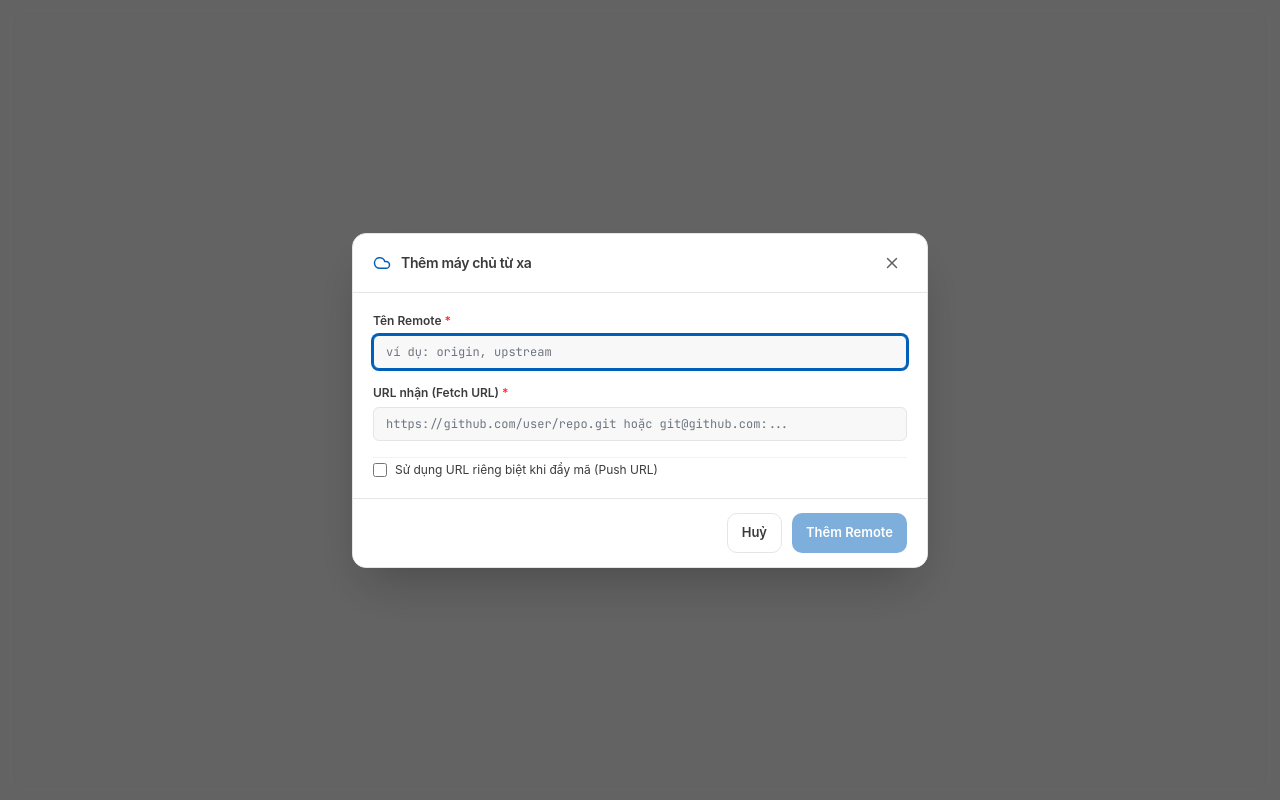
Test: AddEditRemoteModal › clears the error as soon as the user edits a field again
Type "upstream" into the field labelled "Tên Remote *". click: (640, 352)
box: 373,334 -> 907,368
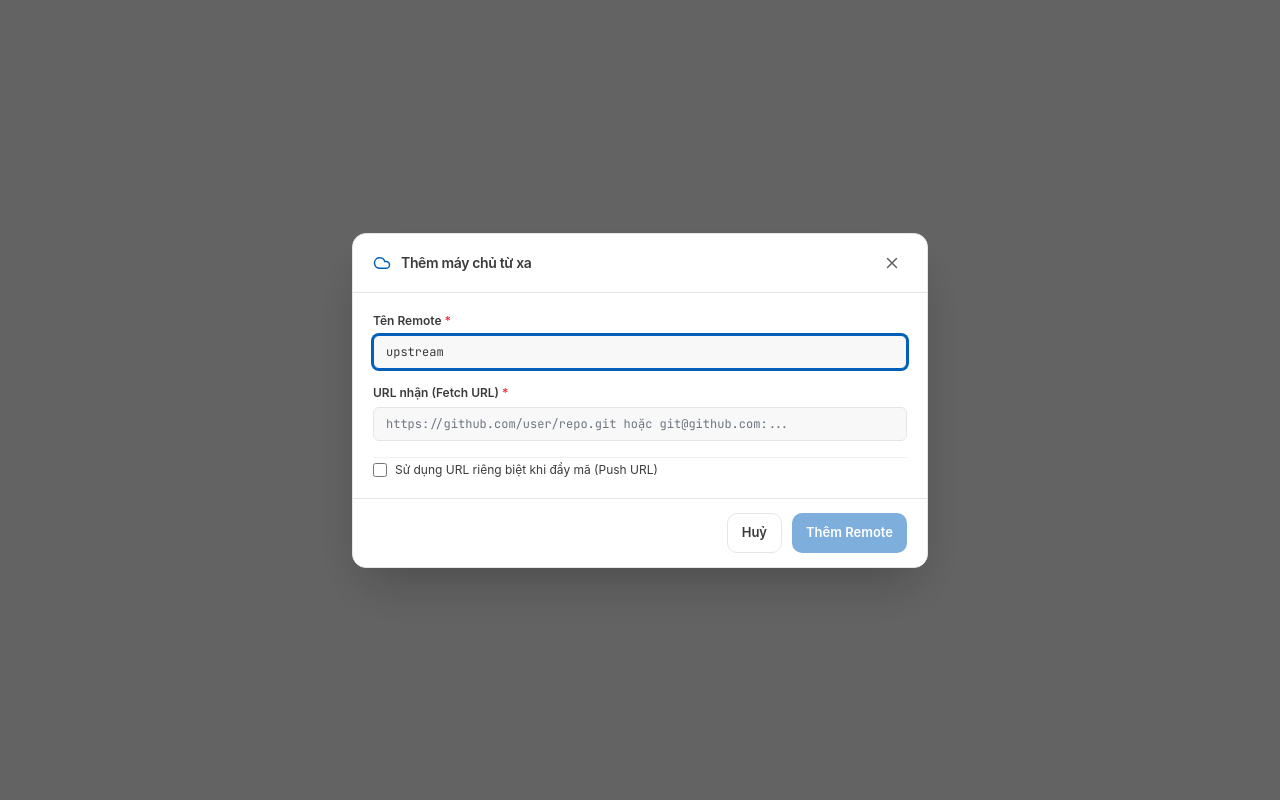
Type "https://example.com/a.git" into the field labelled "URL nhận (Fetch URL) *". click: (640, 424)
box: 373,406 -> 907,440
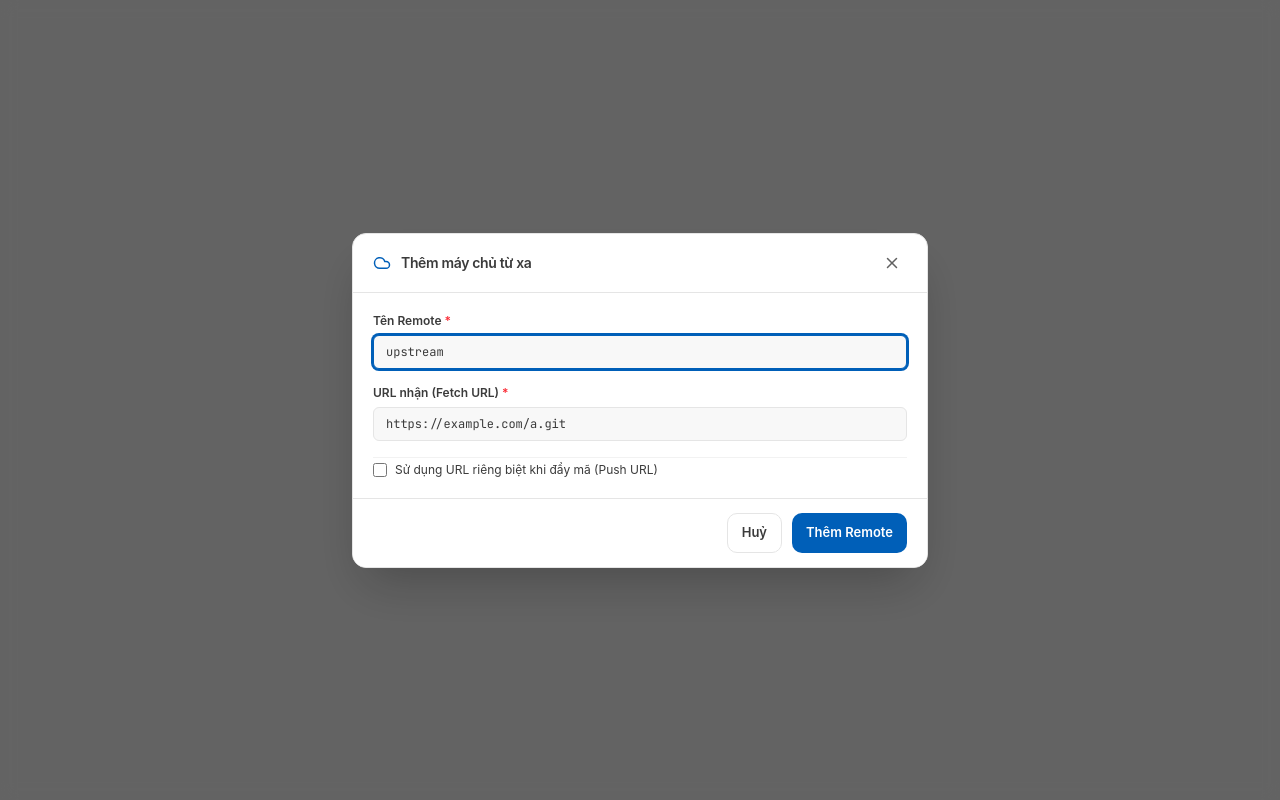
Click the button "Thêm Remote". click: (850, 532)
box: 792,512 -> 907,552
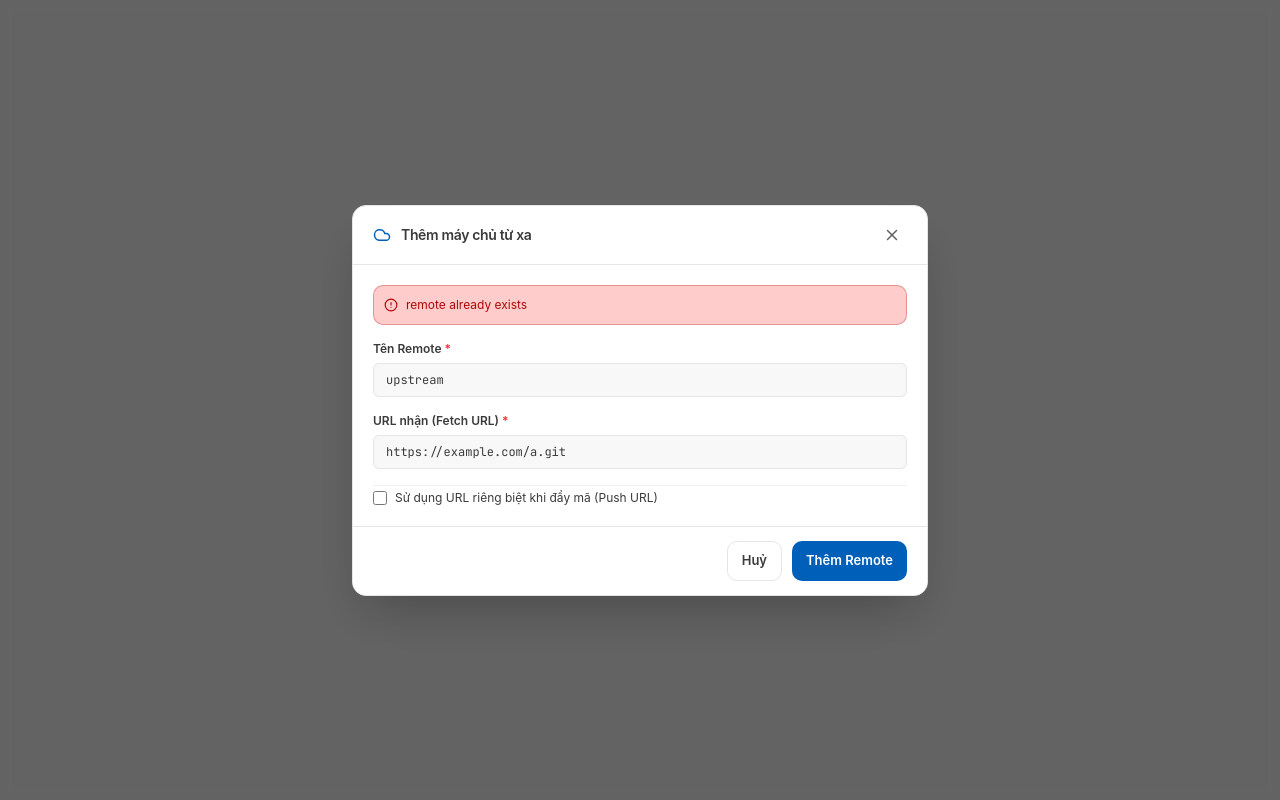
Expected: the text "remote already exists" is shown, 406,296 -> 527,314
Replace the text in the field labelled "Tên Remote *" with "upstream2". click: (640, 380)
box: 373,362 -> 907,396
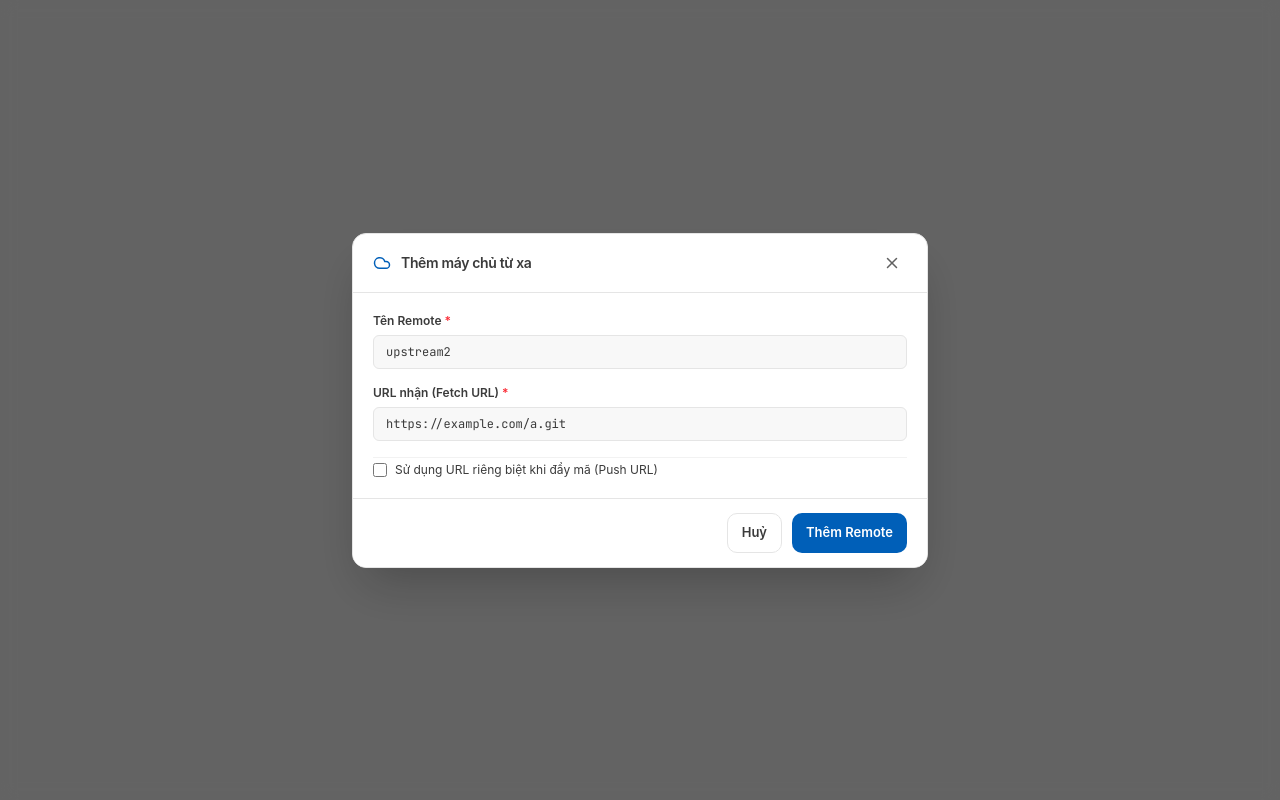
Expected: the text "remote already exists" is gone
